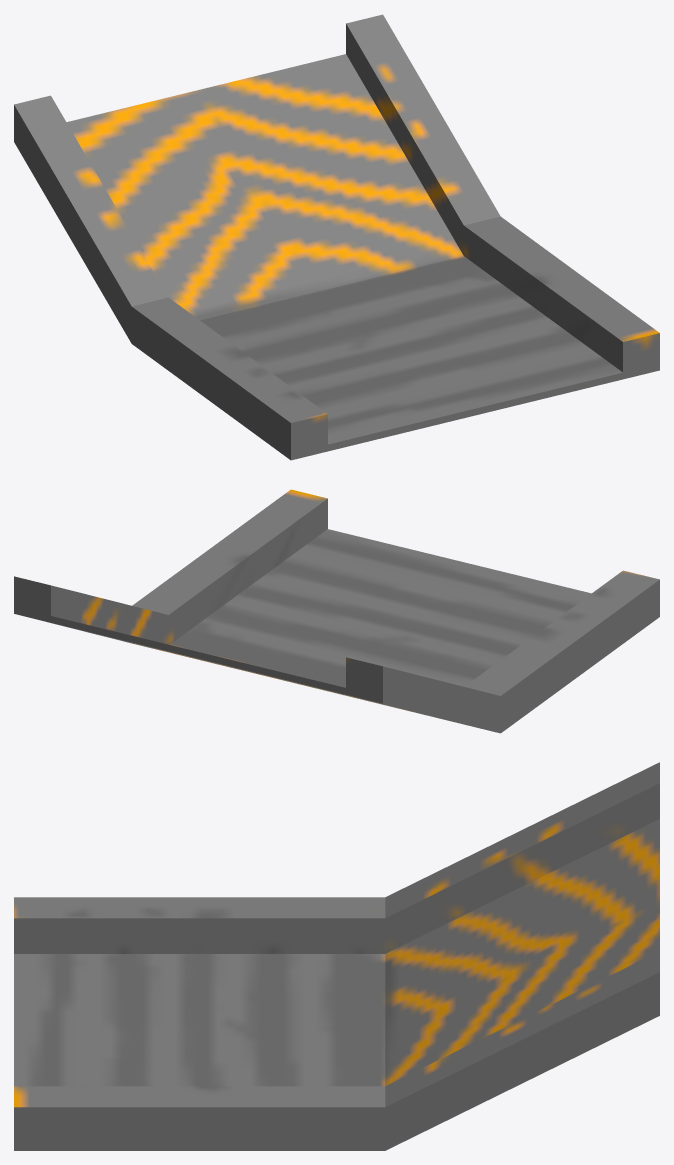
File: jump_pad.fbx
3 renders of one model, top to bottom at view 1: azimuth 30°, elevation 25°; view 2: azimuth 150°, elevation 25°; view 3: azimuth 270°, elevation 25°, orthographic. The views are drawn at different scales.
Parts seen in each view (by area): view 1: jumppad; view 2: jumppad; view 3: jumppad.
Part boxes in pixels (x1,y1,x2,y2): jumppad: (14, 14, 659, 460); jumppad: (14, 489, 659, 733); jumppad: (14, 762, 659, 1150).
Bounding box in the file's own units: 100 × 39.69 × 130.
